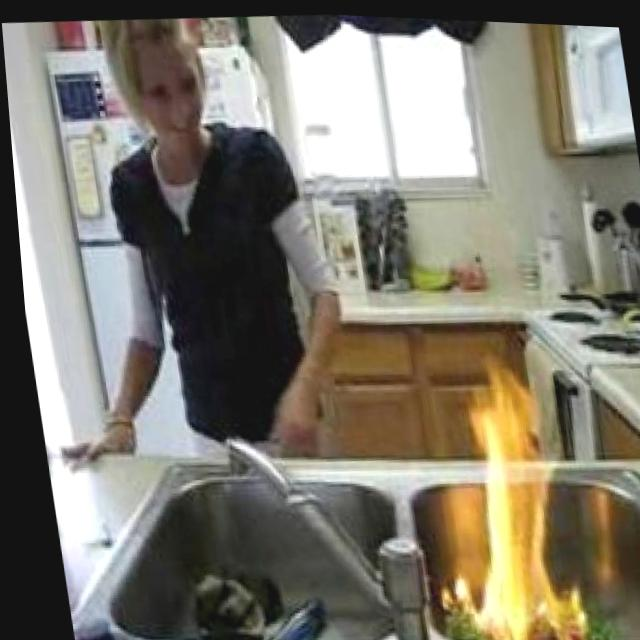Fire: (411, 340, 579, 640)
